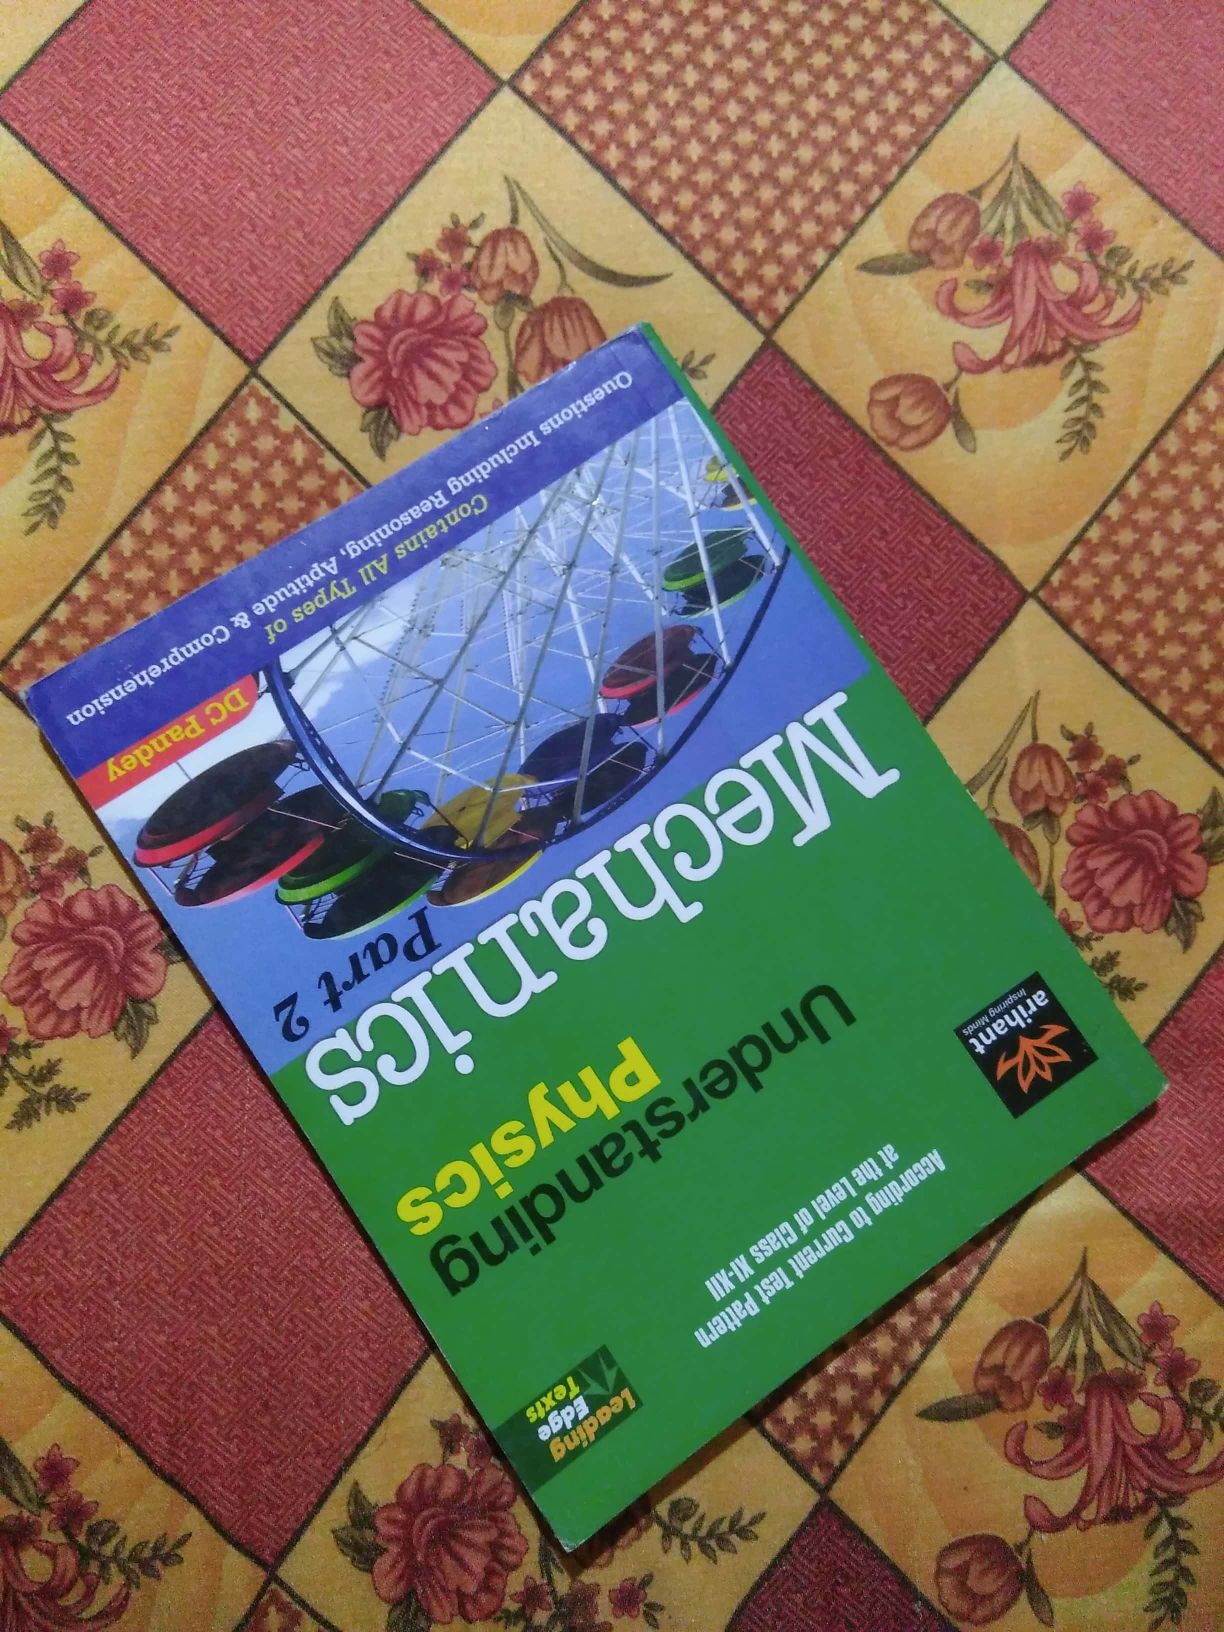mechanics: (17, 443, 1139, 1493)
